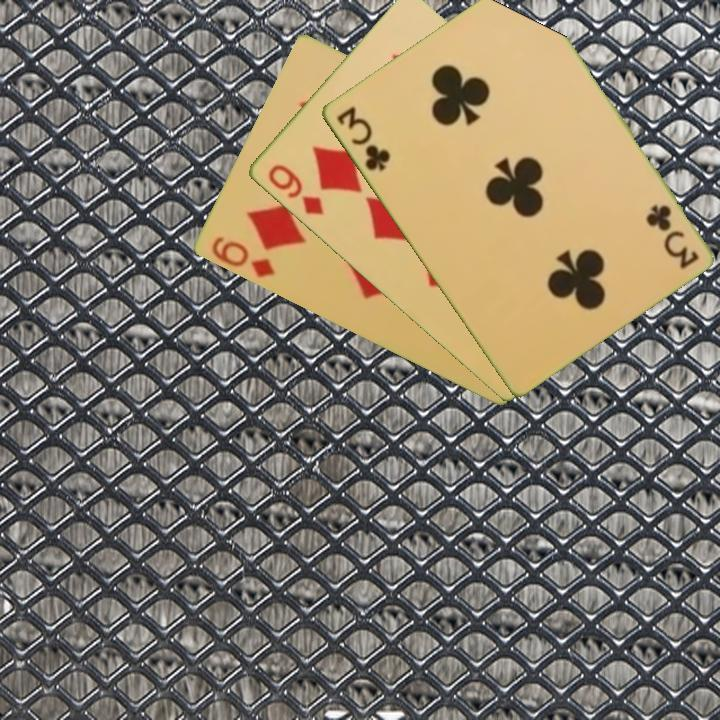3c: (332, 102, 393, 174), (643, 200, 702, 272)
6d: (207, 233, 278, 281)
9d: (264, 160, 327, 219)
